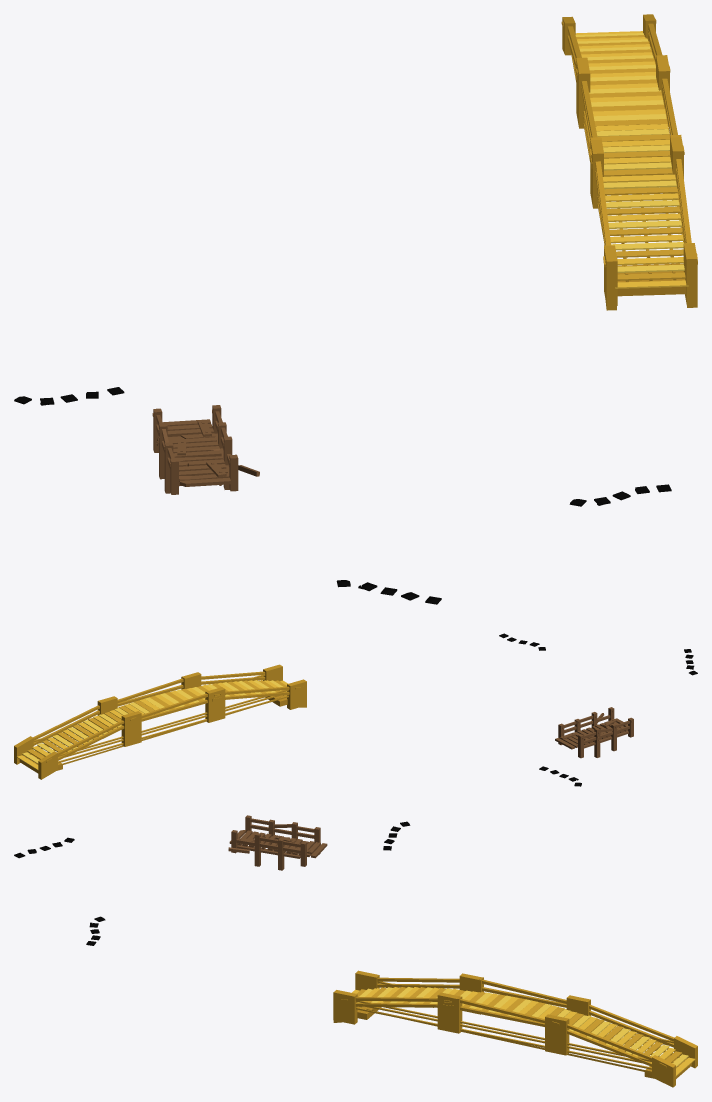
Rendered from scenery.glb.
3 renders of one model, top to bottom at view 1: azimuth 30°, elevation 25°; view 2: azimuth 150°, elevation 25°; view 3: azimuth 270°, elevation 25°, orthographic. The views are drawn at different scales.
Visible parts, largest first — view 1: bridge02_deck_slats, bridge01, bridge02, bridge02_middle_pillar_covers, bridge02_entrance_pillar_covers, bridge02_deck_supports; view 2: bridge02, bridge02_deck_slats, bridge01, bridge02_end_caps, bridge02_middle_pillar_covers, bridge02_entrance_pillar_covers, bridge02_deck_supports; view 3: bridge02, bridge02_deck_slats, bridge01, bridge02_middle_pillar_covers, bridge02_end_caps, bridge02_entrance_pillar_covers.
Part boxes in pixels (bbox=[...]): bridge02_deck_slats: bbox=[575, 31, 688, 288]; bridge01: bbox=[152, 405, 259, 494]; bridge02: bbox=[561, 14, 697, 310]; bridge02_middle_pillar_covers: bbox=[576, 55, 683, 208]; bridge02_entrance_pillar_covers: bbox=[604, 243, 697, 306]; bridge02_deck_supports: bbox=[616, 193, 685, 296]; bridge02: bbox=[14, 671, 306, 779]; bridge02_deck_slats: bbox=[16, 680, 287, 770]; bridge01: bbox=[555, 707, 633, 758]; bridge02_end_caps: bbox=[33, 674, 288, 763]; bridge02_middle_pillar_covers: bbox=[97, 672, 225, 746]; bridge02_entrance_pillar_covers: bbox=[263, 664, 306, 709]; bridge02_deck_supports: bbox=[19, 695, 287, 773]; bridge02: bbox=[333, 976, 697, 1087]; bridge02_deck_slats: bbox=[352, 987, 695, 1076]; bridge01: bbox=[228, 815, 327, 870]; bridge02_middle_pillar_covers: bbox=[437, 973, 590, 1055]; bridge02_end_caps: bbox=[356, 981, 673, 1069]; bridge02_entrance_pillar_covers: bbox=[333, 970, 379, 1024].
Size of the model in its own units: 55.17 by 5.47 by 61.31.
8 materials, 1 textured.
